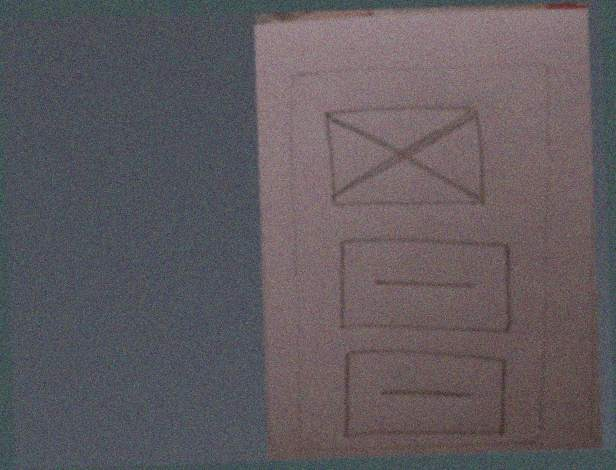button: (328, 225, 521, 345), (335, 343, 515, 446)
image: (316, 92, 491, 219)
